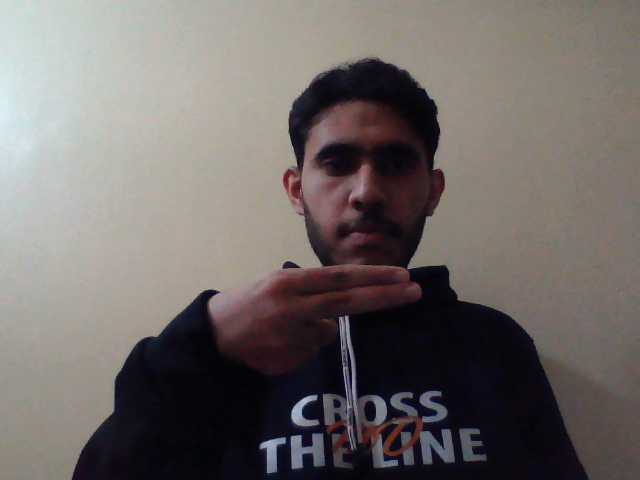H: (195, 265, 429, 381)
